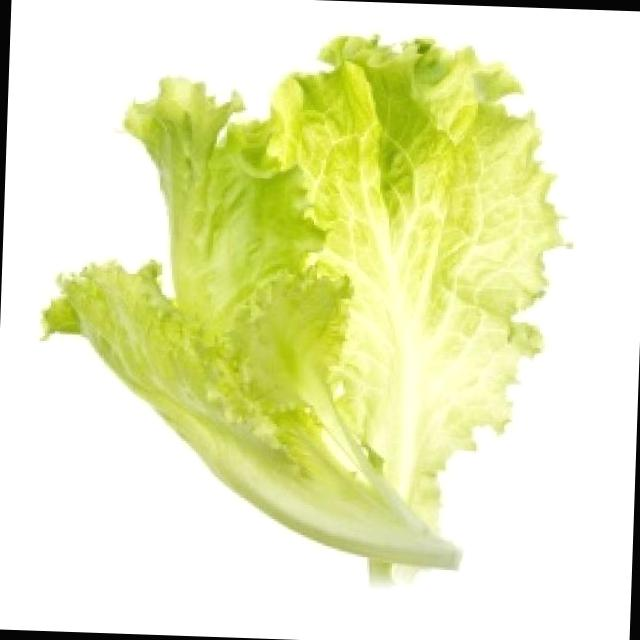Lettuce-Ready-to-Harvest: (44, 38, 559, 572)
